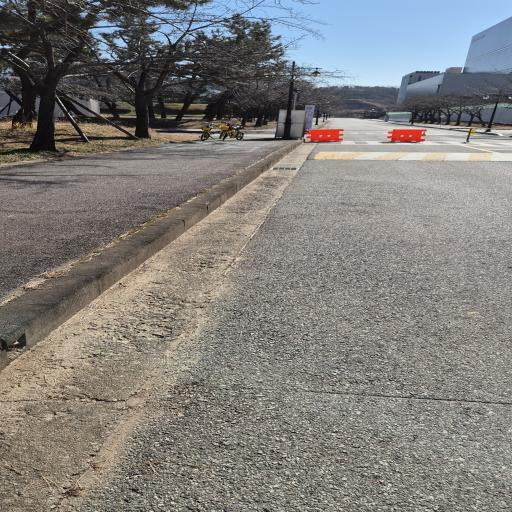drain: (273, 167, 297, 170)
